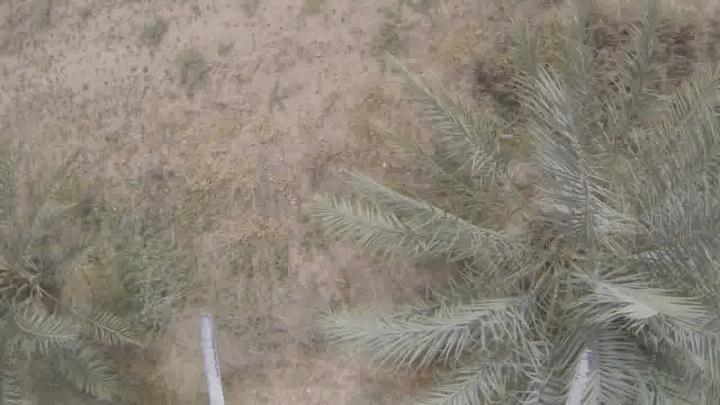Date-Palm-Crown: (426, 113, 720, 405), (0, 199, 80, 381)
